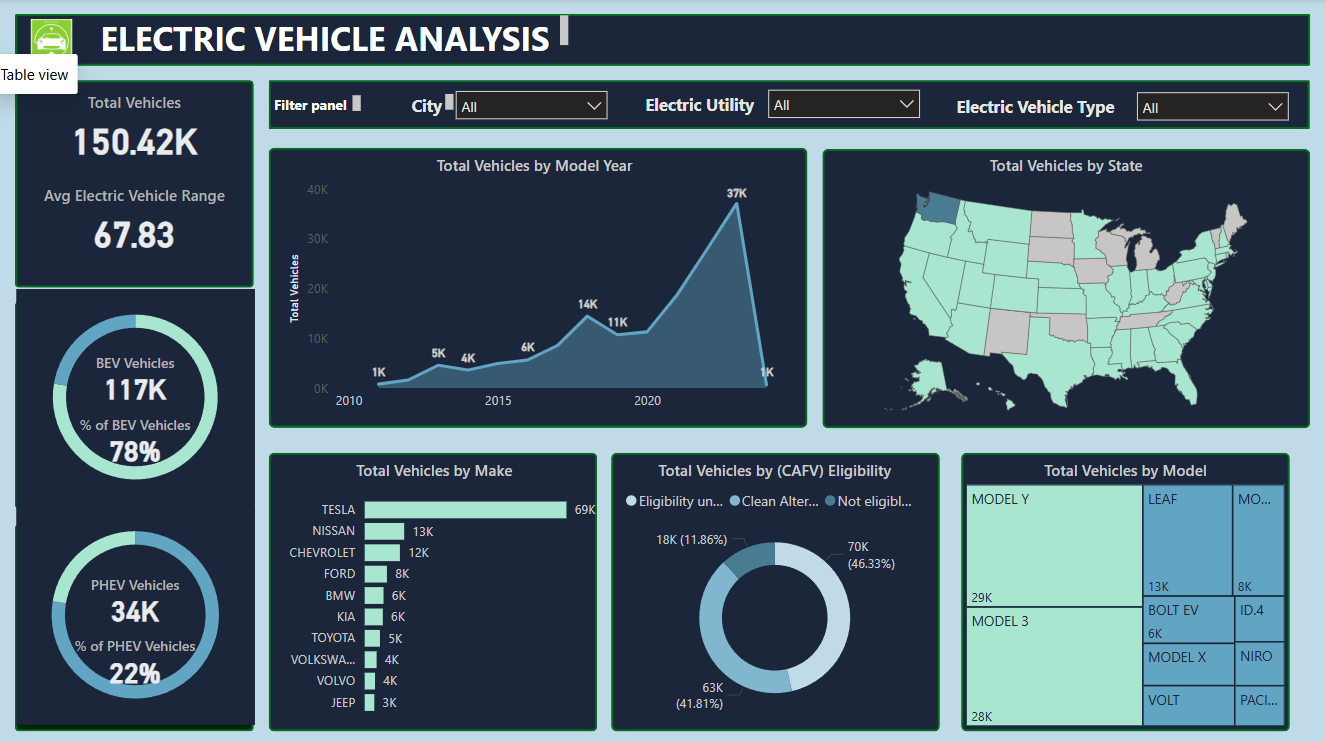

The page's visual inventory and layout, read from the dashboard file:
{"tool":"powerbi","page":{"name":"Page 1","canvas":[1280,720],"ordinal":0},"visuals":[{"type":"shape","box":[14.6,14.6,1250,50],"z":0},{"type":"textbox","box":[91.7,10.9,461.9,59.1],"z":1000},{"type":"shape","box":[14.5,78.4,230.4,200.2],"z":2000},{"type":"card","title":"Total Vehicles","fields":{"Values":["Electric_Vehicle_Population_Data.Total Vehicles"]},"box":[24.1,89.2,211.1,72.4],"z":3000},{"type":"card","title":"Avg Electric Vehicle Range","fields":{"Values":["Avg(Electric_Vehicle_Population_Data.Electric Range)"]},"box":[24.1,178.5,211.1,72.4],"z":4000},{"type":"shape","box":[14.5,291.9,230.4,200.2],"z":5000},{"type":"shape","box":[14.5,506.5,230.4,200.2],"z":6000},{"type":"donutChart","fields":{"Category":["Electric_Vehicle_Population_Data.Electric Vehicle Type"],"Y":["Electric_Vehicle_Population_Data.Total Vehicles"]},"box":[15.1,280.1,230.2,209],"z":7000},{"type":"card","title":"BEV Vehicles","fields":{"Values":["Electric_Vehicle_Population_Data.BEV Vehicles"]},"box":[66.3,341.3,127.8,50.7],"z":8000},{"type":"card","title":"% of BEV Vehicles","fields":{"Values":["Electric_Vehicle_Population_Data.% of BEV"]},"box":[66.3,401.6,127.8,50.7],"z":9000},{"type":"donutChart","fields":{"Category":["Electric_Vehicle_Population_Data.Electric Vehicle Type"],"Y":["Electric_Vehicle_Population_Data.Total Vehicles"]},"box":[15.1,489.1,230.2,212],"z":10000},{"type":"card","title":"PHEV Vehicles","fields":{"Values":["Electric_Vehicle_Population_Data.PHEV Vehicles"]},"box":[66.3,556,127.8,50.7],"z":11000},{"type":"card","title":"% of PHEV Vehicles","fields":{"Values":["Electric_Vehicle_Population_Data.% of PHEV"]},"box":[66.3,615.1,127.8,50.7],"z":12000},{"type":"shape","box":[259.3,78.4,1004.6,47],"z":13000},{"type":"shape","box":[259.3,143.5,519.8,270.2],"z":14000},{"type":"areaChart","fields":{"Y":["Electric_Vehicle_Population_Data.Total Vehicles"],"Category":["Electric_Vehicle_Population_Data.Model Year"]},"box":[274.4,150,484.1,256.1],"z":15000},{"type":"shape","box":[793.9,145.1,470.7,269.5],"z":16000},{"type":"shapeMap","fields":{"Category":["Electric_Vehicle_Population_Data.State"],"Value":["Electric_Vehicle_Population_Data.Total Vehicles"]},"box":[793.6,149.5,470.4,264.1],"z":17000},{"type":"shape","box":[259.3,437.8,317.2,268.9],"z":18000},{"type":"barChart","fields":{"Category":["Electric_Vehicle_Population_Data.Make"],"Y":["Electric_Vehicle_Population_Data.Total Vehicles"]},"box":[258.1,443.8,322,256.9],"z":19000},{"type":"shape","box":[589.7,437.8,317.2,268.9],"z":20000},{"type":"shape","box":[927.4,437.8,317.2,268.9],"z":21000},{"type":"donutChart","title":"Total Vehicles by (CAFV) Eligibility","fields":{"Category":["Electric_Vehicle_Population_Data.Clean Alternative Fuel Vehicle (CAFV) Eligibility"],"Y":["Electric_Vehicle_Population_Data.Total Vehicles"]},"box":[598.2,443.8,299.1,256.9],"z":22000},{"type":"treemap","fields":{"Group":["Electric_Vehicle_Population_Data.Model"],"Values":["Electric_Vehicle_Population_Data.Total Vehicles"]},"box":[927.4,443.8,317.2,262.9],"z":23000},{"type":"textbox","box":[258.9,87.8,93.9,30.3],"z":24000},{"type":"slicer","fields":{"Values":["Electric_Vehicle_Population_Data.City"]},"box":[429.6,78.4,166.4,48.2],"z":25000},{"type":"textbox","box":[392.2,86.8,50.7,31.4],"z":26000},{"type":"slicer","fields":{"Values":["Electric_Vehicle_Population_Data.Electric Utility"]},"box":[730.9,77.2,166.4,48.2],"z":27000},{"type":"textbox","box":[617.5,85.6,123,31.4],"z":28000},{"type":"slicer","fields":{"Values":["Electric_Vehicle_Population_Data.Electric Vehicle Type"]},"box":[1086.6,79.6,166.4,48.2],"z":29000},{"type":"textbox","box":[917.8,88,177.3,31.4],"z":30000},{"type":"image","box":[24.1,14.5,51.9,49.4],"z":31000}]}

Visuals, with their boxes in screenshot pixels (x1, y1, x2, y2):
shape: <bbox>8, 5, 1324, 58</bbox>
textbox: <bbox>90, 1, 576, 63</bbox>
shape: <bbox>8, 72, 251, 283</bbox>
"Total Vehicles" card: <bbox>18, 84, 241, 160</bbox>
"Avg Electric Vehicle Range" card: <bbox>18, 178, 241, 254</bbox>
shape: <bbox>8, 297, 251, 508</bbox>
shape: <bbox>8, 523, 251, 734</bbox>
donutChart - Electric_Vehicle_Population_Data.Electric Vehicle Type x Electric_Vehicle_Population_Data.Total Vehicles: <bbox>9, 285, 252, 505</bbox>
"BEV Vehicles" card: <bbox>63, 349, 198, 403</bbox>
"% of BEV Vehicles" card: <bbox>63, 413, 198, 466</bbox>
donutChart - Electric_Vehicle_Population_Data.Electric Vehicle Type x Electric_Vehicle_Population_Data.Total Vehicles: <bbox>9, 505, 252, 728</bbox>
"PHEV Vehicles" card: <bbox>63, 575, 198, 629</bbox>
"% of PHEV Vehicles" card: <bbox>63, 638, 198, 691</bbox>
shape: <bbox>266, 72, 1324, 122</bbox>
shape: <bbox>266, 141, 814, 425</bbox>
areaChart - Electric_Vehicle_Population_Data.Total Vehicles x Electric_Vehicle_Population_Data.Model Year: <bbox>282, 148, 792, 417</bbox>
shape: <bbox>829, 143, 1324, 426</bbox>
shapeMap - Electric_Vehicle_Population_Data.State x Electric_Vehicle_Population_Data.Total Vehicles: <bbox>829, 147, 1324, 425</bbox>
shape: <bbox>266, 451, 600, 734</bbox>
barChart - Electric_Vehicle_Population_Data.Make x Electric_Vehicle_Population_Data.Total Vehicles: <bbox>265, 457, 604, 728</bbox>
shape: <bbox>614, 451, 948, 734</bbox>
shape: <bbox>970, 451, 1304, 734</bbox>
"Total Vehicles by (CAFV) Eligibility" donutChart: <bbox>623, 457, 938, 728</bbox>
treemap - Electric_Vehicle_Population_Data.Model x Electric_Vehicle_Population_Data.Total Vehicles: <bbox>970, 457, 1304, 734</bbox>
textbox: <bbox>266, 82, 365, 114</bbox>
slicer - Electric_Vehicle_Population_Data.City: <bbox>446, 72, 621, 123</bbox>
textbox: <bbox>406, 81, 460, 114</bbox>
slicer - Electric_Vehicle_Population_Data.Electric Utility: <bbox>763, 71, 938, 122</bbox>
textbox: <bbox>644, 80, 773, 113</bbox>
slicer - Electric_Vehicle_Population_Data.Electric Vehicle Type: <bbox>1138, 74, 1313, 124</bbox>
textbox: <bbox>960, 82, 1147, 115</bbox>
image: <bbox>18, 5, 73, 57</bbox>
